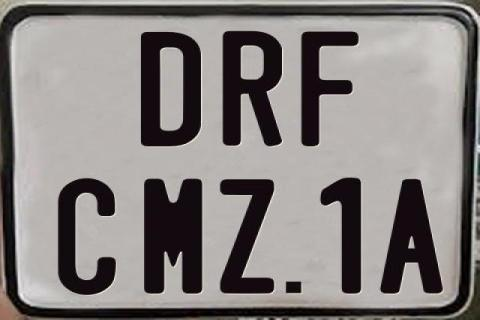0: (319, 176, 362, 292)
A: (377, 178, 440, 296)
C: (58, 178, 122, 296)
D: (138, 32, 200, 150)
F: (299, 29, 360, 149)
M: (141, 176, 201, 294)
R: (221, 29, 285, 149)
Z: (218, 177, 273, 295)
